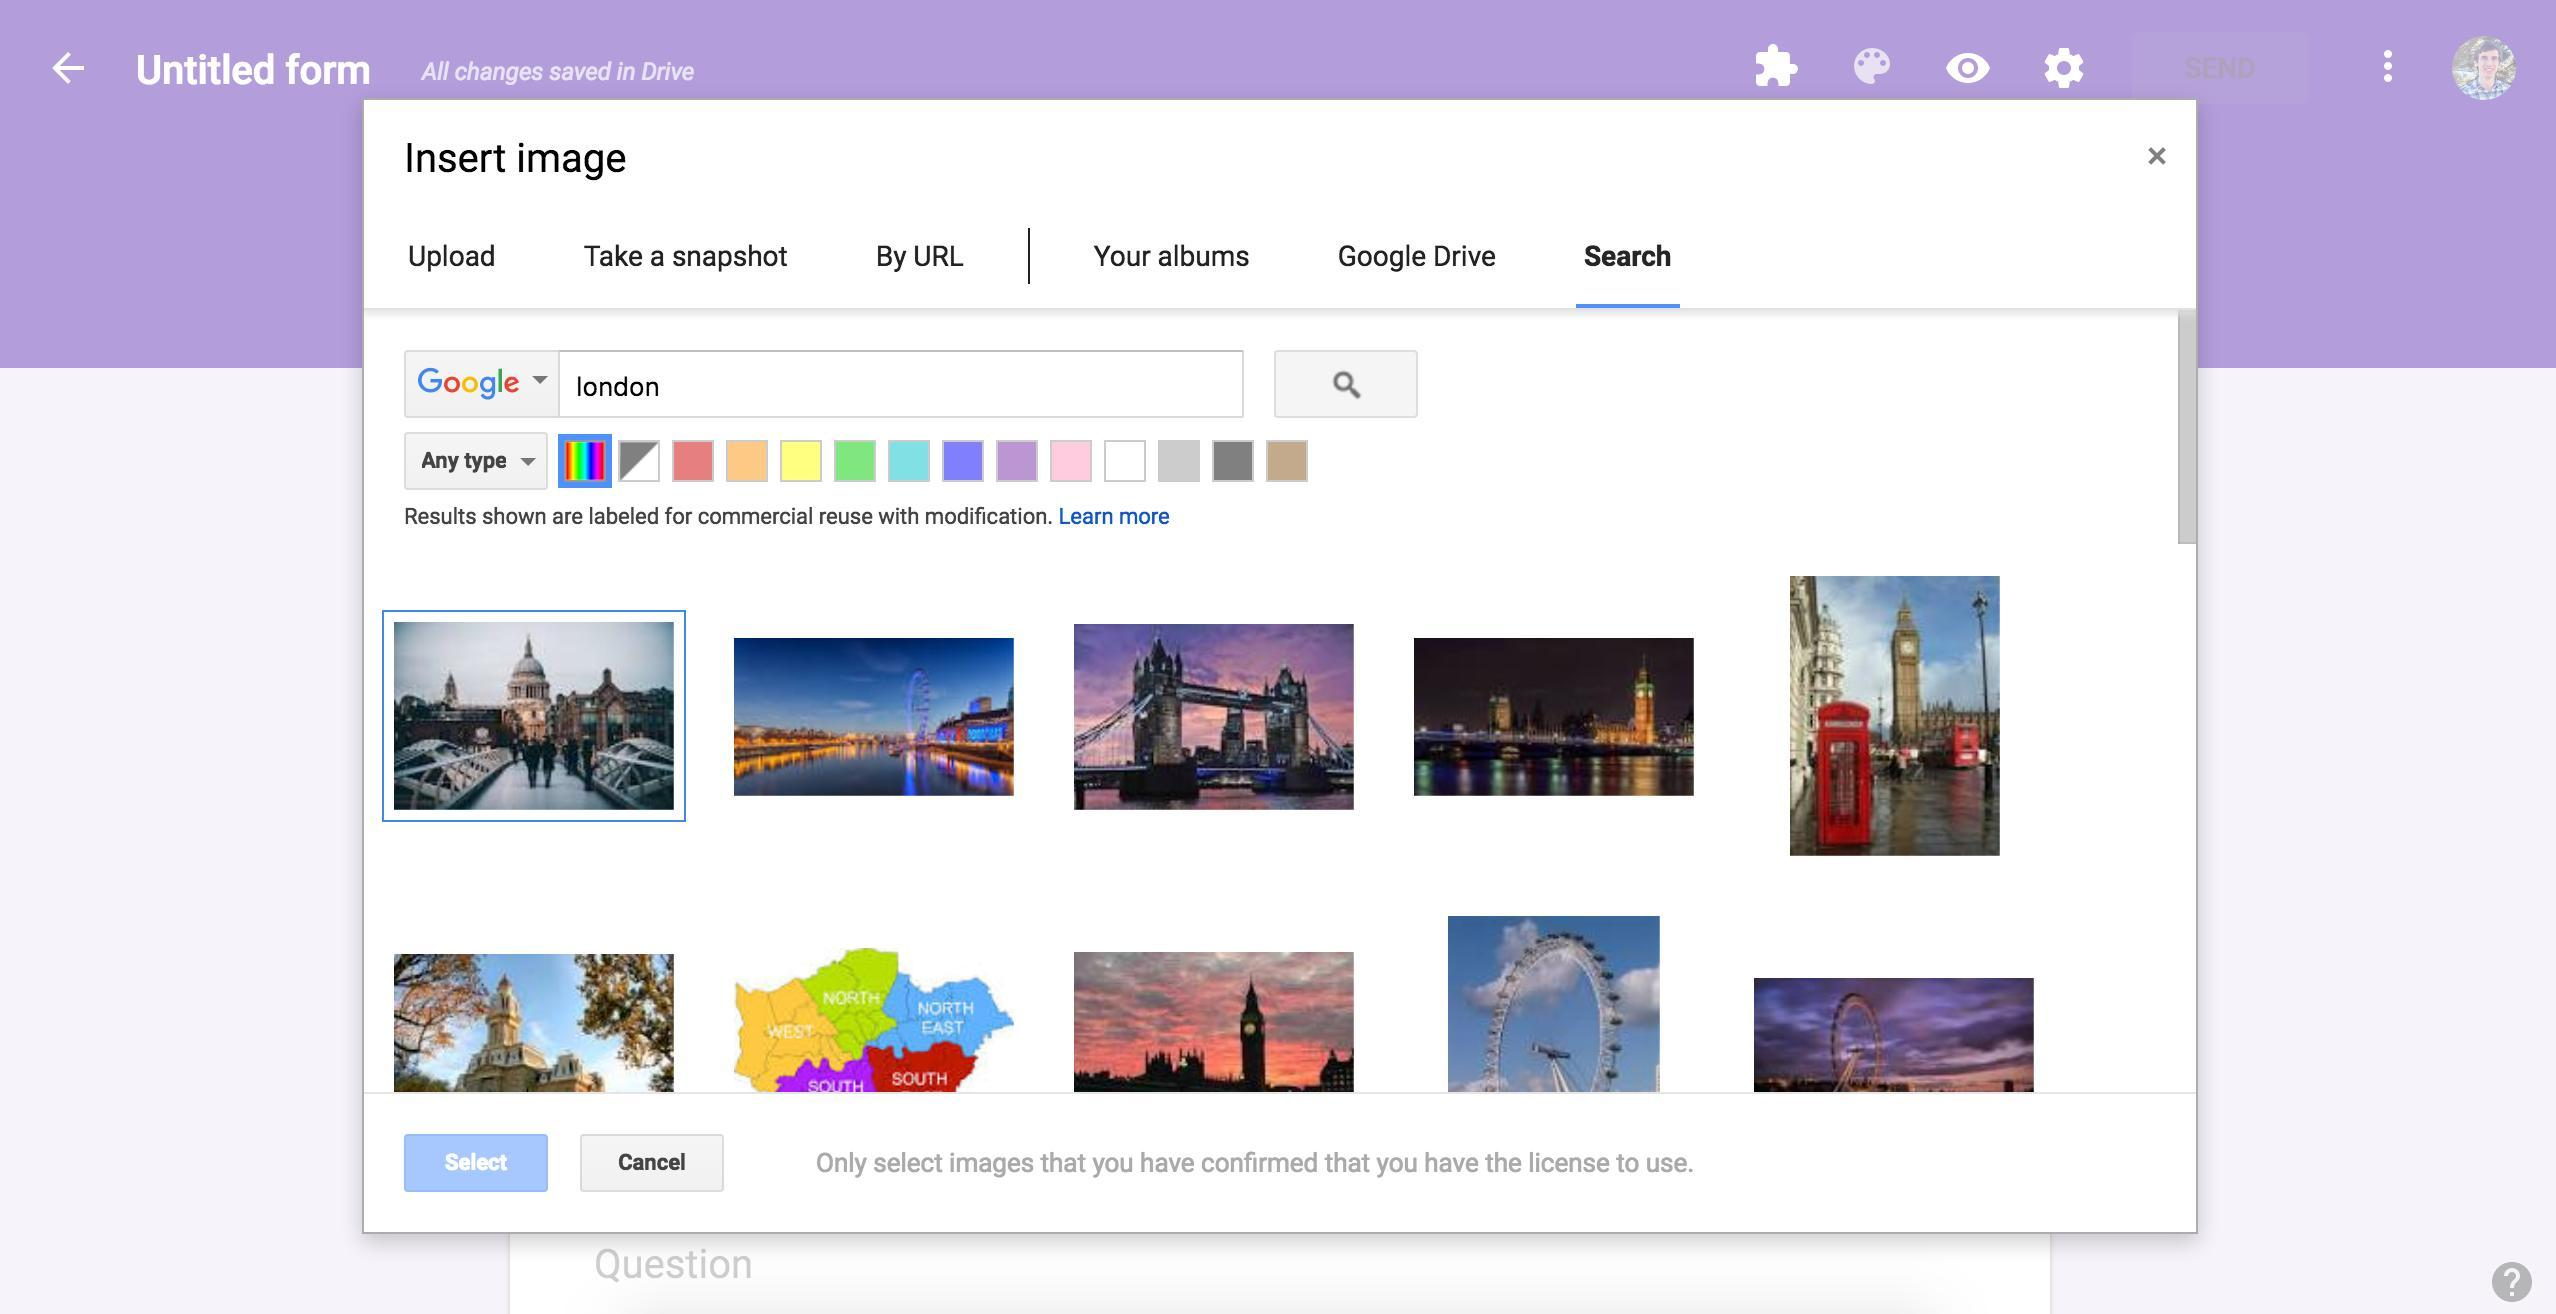button: (1271, 350, 1419, 421), (585, 1135, 725, 1193), (405, 1136, 544, 1193)
dropdown: (404, 352, 558, 421), (407, 431, 549, 491)
icon: (1745, 45, 1806, 92), (2043, 45, 2090, 96), (1950, 44, 1993, 91), (1854, 45, 1894, 92), (2375, 42, 2404, 92)
input: (564, 349, 1248, 422)
